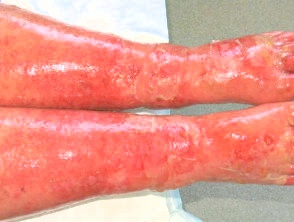SJS-TEN: (0, 99, 294, 222), (1, 0, 294, 113)
